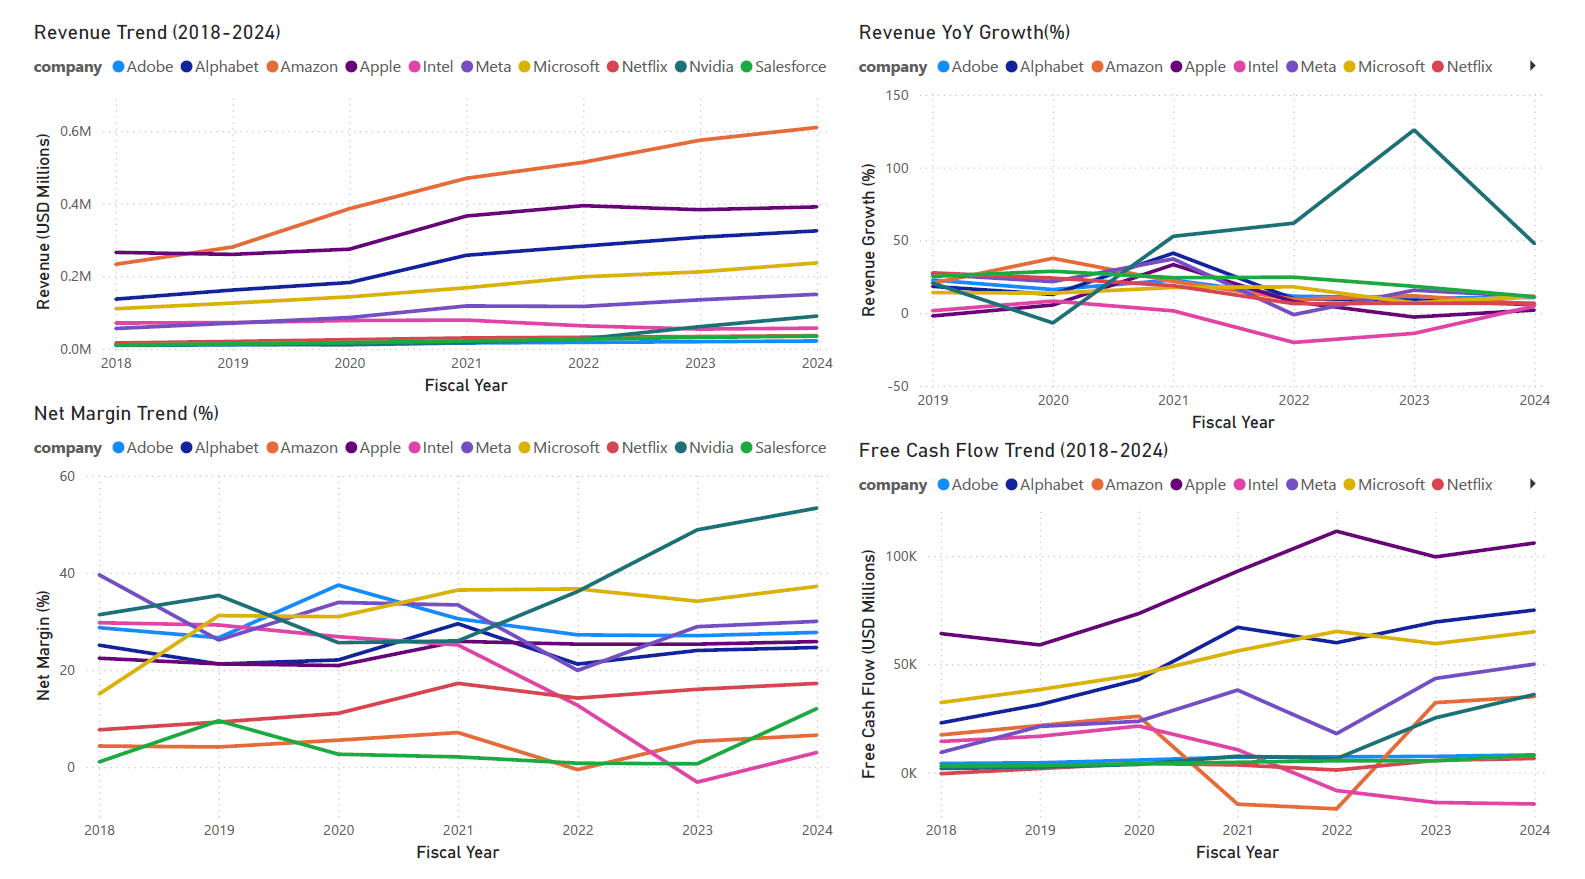

What the dashboard file says about the page in this screenshot:
{"tool":"powerbi","page":{"name":"Trend Analysis","canvas":[1280,720],"ordinal":1},"visuals":[{"type":"lineChart","title":"Revenue Trend (2018-2024)","fields":{"Category":["public financial_performance.fiscal_year"],"Y":["Sum(public financial_performance.revenue)"],"Series":["public financial_performance.company"]},"box":[0,9.8,678.7,319.2],"z":0},{"type":"lineChart","title":"Revenue YoY Growth(%)","fields":{"Category":["public financial_performance.fiscal_year"],"Y":["Sum(public financial_performance.revenue_yoy_growth_pct)"],"Series":["public financial_performance.company"]},"box":[690.9,9.8,589.4,349.7],"z":1000},{"type":"lineChart","title":"Net Margin Trend (%)","fields":{"Category":["public financial_performance.fiscal_year"],"Y":["Sum(public financial_performance.net_margin_pct)"],"Series":["public financial_performance.company"]},"box":[0,328.9,678.7,391.3],"z":2000},{"type":"lineChart","title":"Free Cash Flow Trend (2018-2024)","fields":{"Category":["public financial_performance.fiscal_year"],"Y":["Sum(public financial_performance.free_cash_flow)"],"Series":["public financial_performance.company"]},"box":[691,360,589,360],"z":2001}]}

Visuals, with their boxes in screenshot pixels (x1, y1, x2, y2), scaled from the page's 1280x720 canvas onto the 1585x879 screenshot:
"Revenue Trend (2018-2024)" lineChart: (left=0, top=12, right=840, bottom=402)
"Revenue YoY Growth(%)" lineChart: (left=856, top=12, right=1584, bottom=439)
"Net Margin Trend (%)" lineChart: (left=0, top=402, right=840, bottom=878)
"Free Cash Flow Trend (2018-2024)" lineChart: (left=856, top=440, right=1584, bottom=878)
